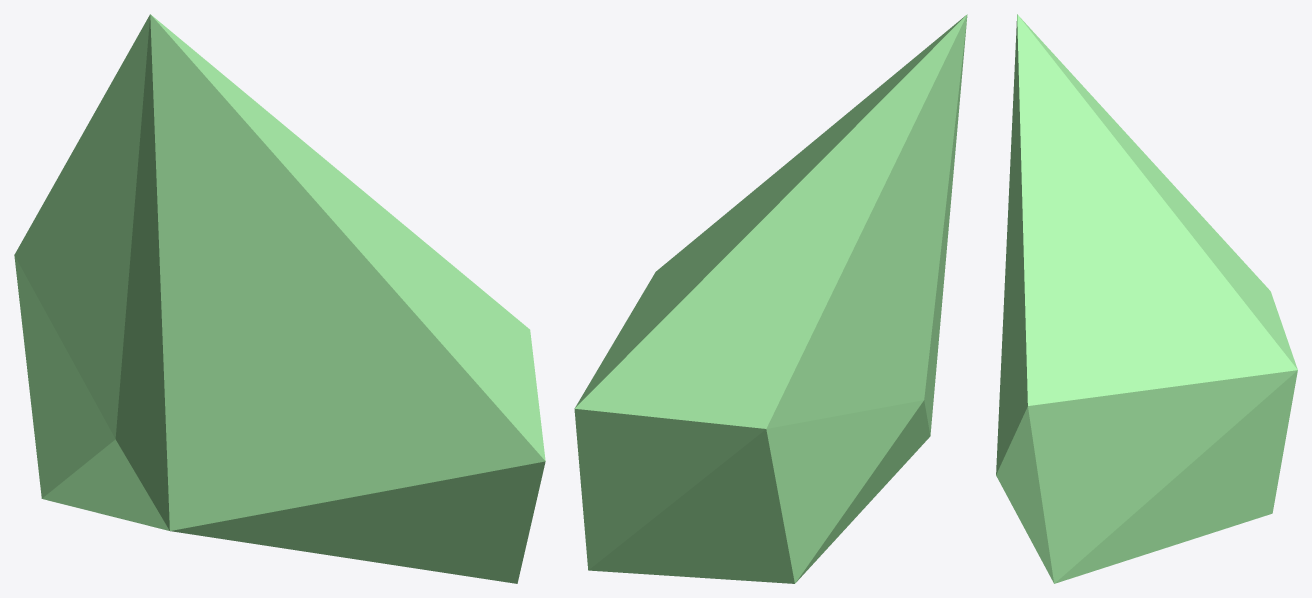
Rendered from dvkr_robot_L3_sx_respondable_TOOL1_coll_8.dae.
3 renders of one model, left to right at view 1: azimuth 30°, elevation 25°; view 2: azimuth 150°, elevation 25°; view 3: azimuth 270°, elevation 25°, orthographic. The views are drawn at different scales.
Visible parts, largest first — view 1: Node_0000023515115D20; view 2: Node_0000023515115D20; view 3: Node_0000023515115D20.
Boxes of the visible parts, <box> form: Node_0000023515115D20: <box>14,14,545,583</box>; Node_0000023515115D20: <box>574,14,967,583</box>; Node_0000023515115D20: <box>996,14,1297,583</box>.
Bounding box in the file's own units: 0.00204 × 0.00339 × 0.00209.
